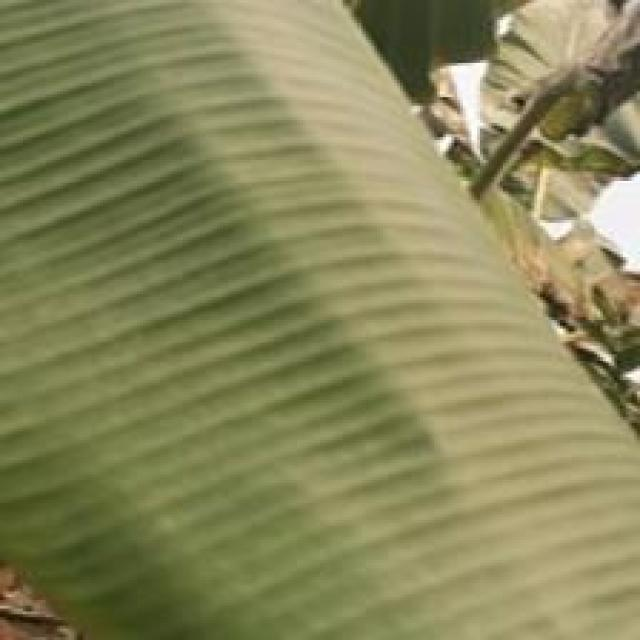Black_leaf_spot: (0, 0, 606, 609)
